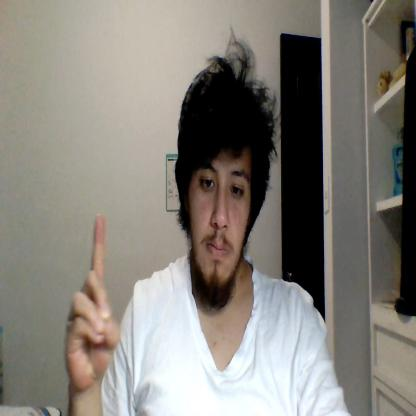D: (64, 213, 119, 389)
